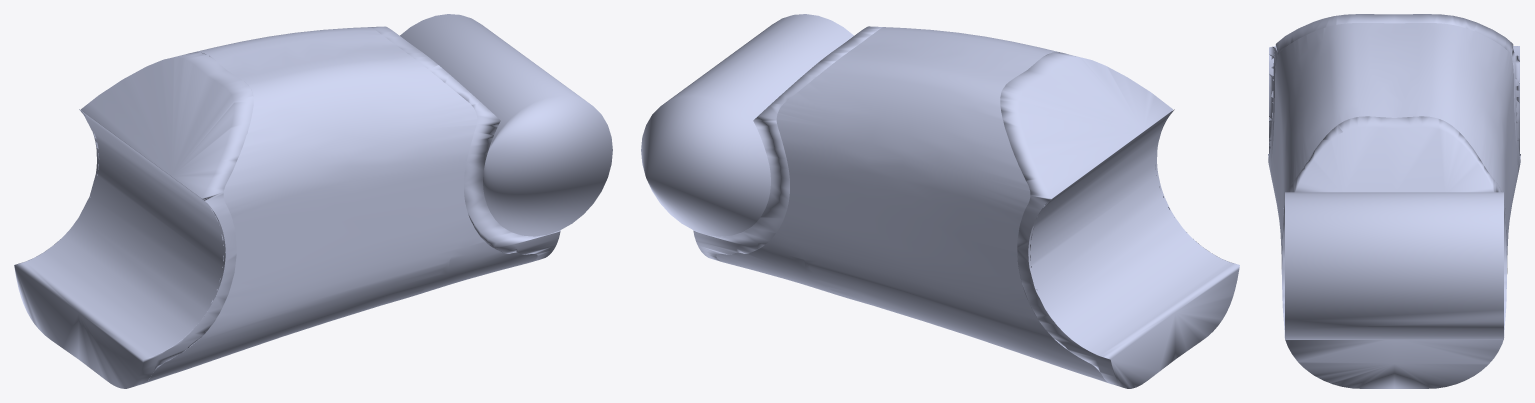
Rendered from right_MP_visual_cad1ee.glb.
3 views of the same model, side by side, from view 1: azimuth 30°, elevation 25°; view 2: azimuth 150°, elevation 25°; view 3: azimuth 270°, elevation 25° (orthographic). The views are drawn at different scales.
Parts seen in each view (by area): view 1: right_MP_visual_0; view 2: right_MP_visual_0; view 3: right_MP_visual_0.
Boxes of the visible parts, box(x1,y1,x2,y2) form: right_MP_visual_0: box(14, 14, 612, 388); right_MP_visual_0: box(641, 14, 1239, 388); right_MP_visual_0: box(1268, 14, 1520, 388).
Bounding box in the file's own units: 0.0365 × 0.0186 × 0.0171.
